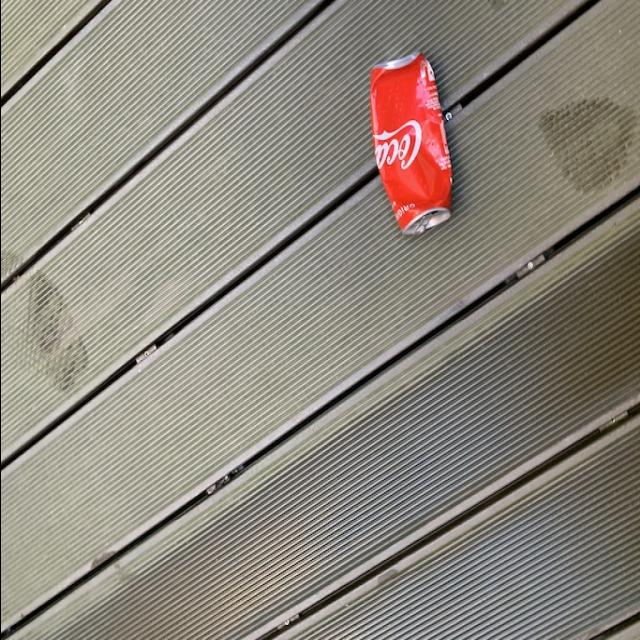litter: (361, 54, 458, 242)
